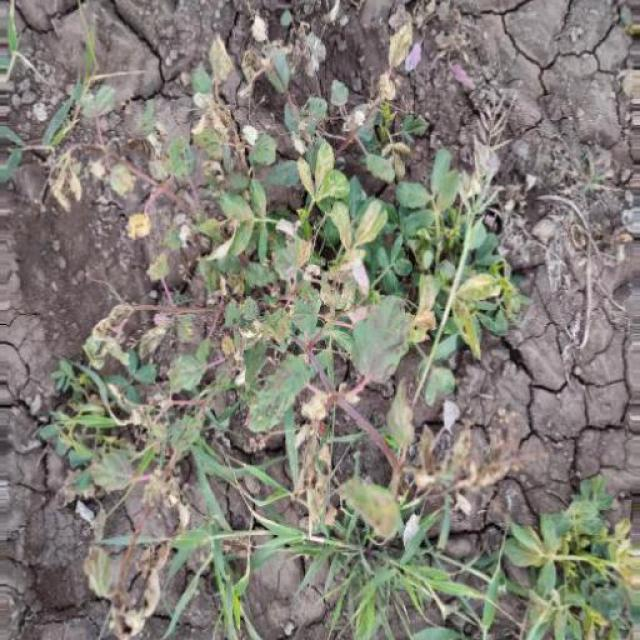weed: (97, 94, 584, 554)
